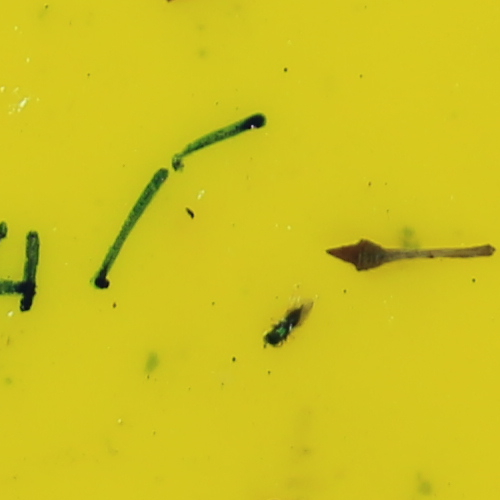wasp: (264, 306, 306, 347)
